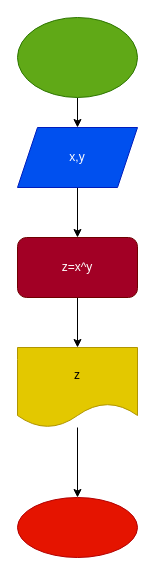
The diagram is 155 pixels wide and 575 high, and some of its shapes have lost their labels. Here are the shapes that lost their labels. From the top down, the box of each, then its label:
(16, 16, 138, 98): inicio
(16, 496, 138, 558): fin
